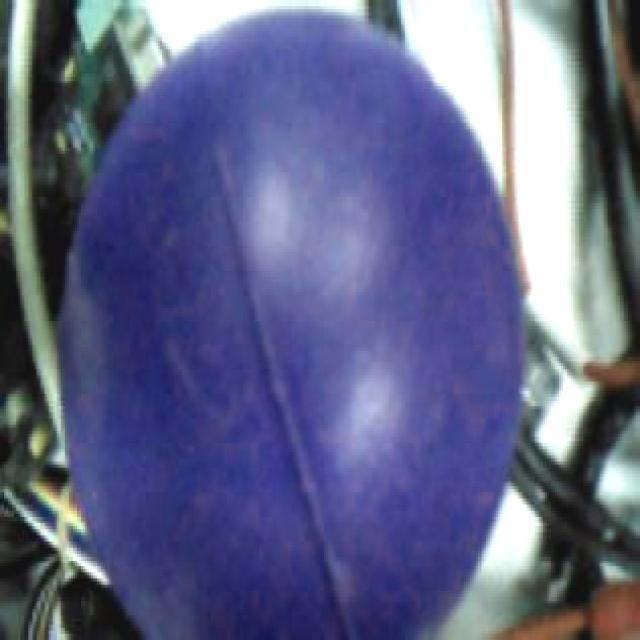BallPurple: (63, 10, 523, 640)
